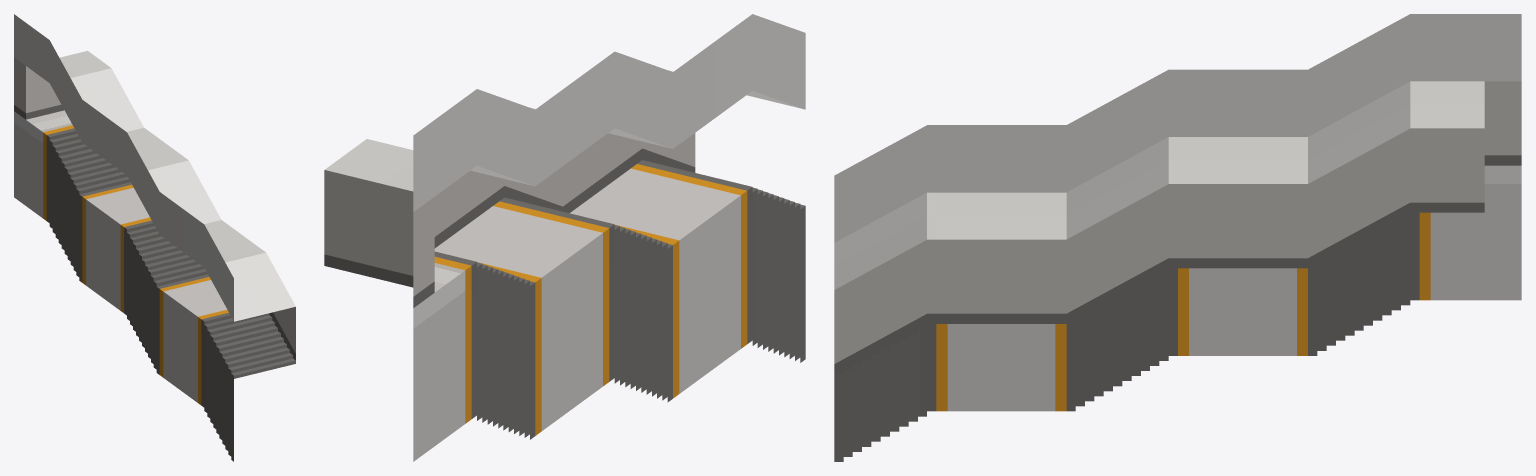
Rendered from HallwayStairs.fbx.
The picture shows the model from 3 angles, left to right: view 1: azimuth 30°, elevation 25°; view 2: azimuth 150°, elevation 25°; view 3: azimuth 270°, elevation 25°; orthographic projection. The views are drawn at different scales.
Visible parts, largest first — view 1: Stairs; view 2: Stairs; view 3: Stairs.
Part boxes in pixels (x1=…): Stairs: x1=14, y1=14, x2=295, y2=461; Stairs: x1=324, y1=14, x2=805, y2=461; Stairs: x1=834, y1=14, x2=1521, y2=461.
Bounding box in the file's own units: 3 × 18.5 × 13.3.
Materials: 5 (5 with a texture image).
